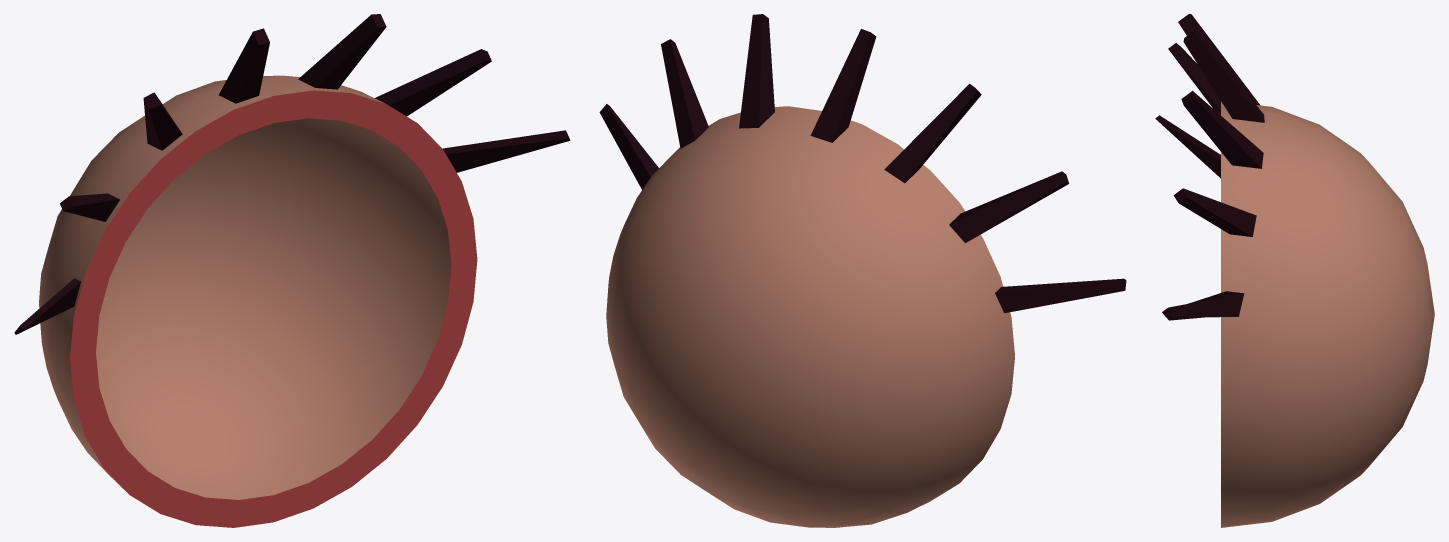
The model's file is eye-lid.fbx.
3 views of the same model, side by side, from view 1: azimuth 30°, elevation 25°; view 2: azimuth 150°, elevation 25°; view 3: azimuth 270°, elevation 25° (orthographic). The views are drawn at different scales.
Visible parts, largest first — view 1: eye-lid; view 2: eye-lid; view 3: eye-lid.
Boxes of the visible parts, box(x1,y1,x2,y2) form: eye-lid: box(14, 14, 570, 527); eye-lid: box(599, 14, 1126, 527); eye-lid: box(1155, 14, 1434, 527).
Size of the model in its own units: 146 by 268 by 307.
